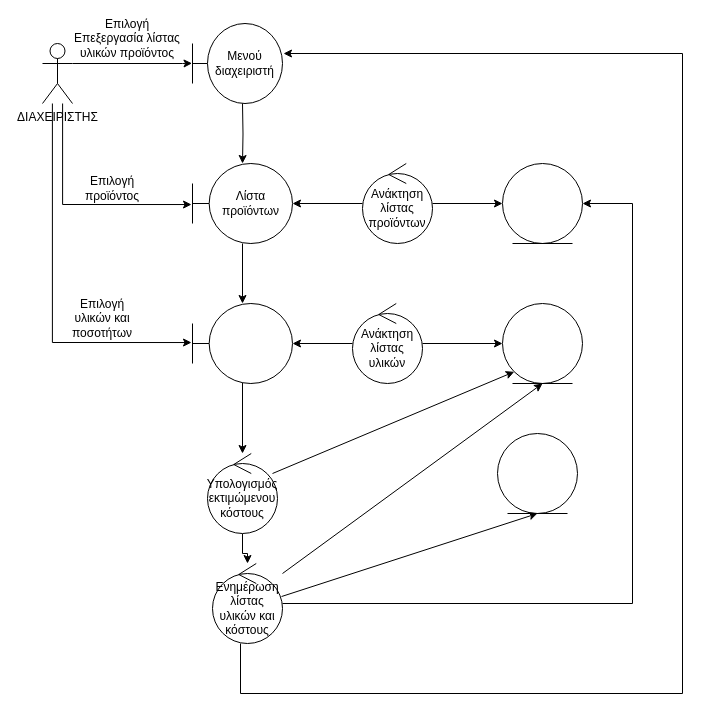
Some shapes in this 708 by 719 pixel diagram are drawn without their labels. The box of each missing label's shape, as (x1, y1, x2, y2) in pixels:
Λίστα υλικών: (192, 302, 292, 384)
Λίστα υλικών προϊόντος: (496, 432, 578, 514)
Προϊόν: (502, 162, 582, 244)
Υλικό: (502, 302, 582, 384)
